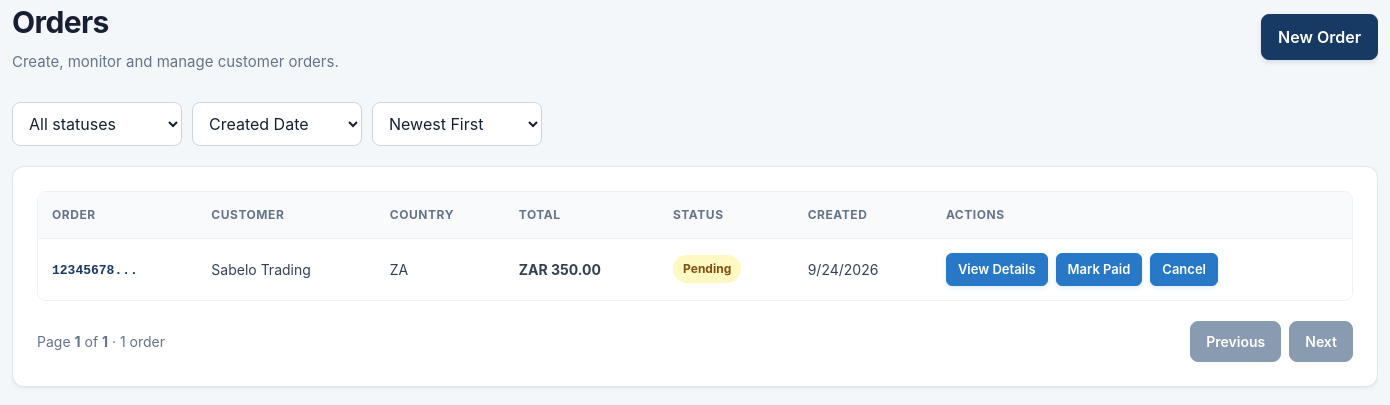
it: OrdersPage › filters orders by status
Expected: the text "12345678..." is shown, [52,263,138,278]
Select "Paid" in the dropdown named "filter orders by status" at point(97, 124), box [12,102,182,146]
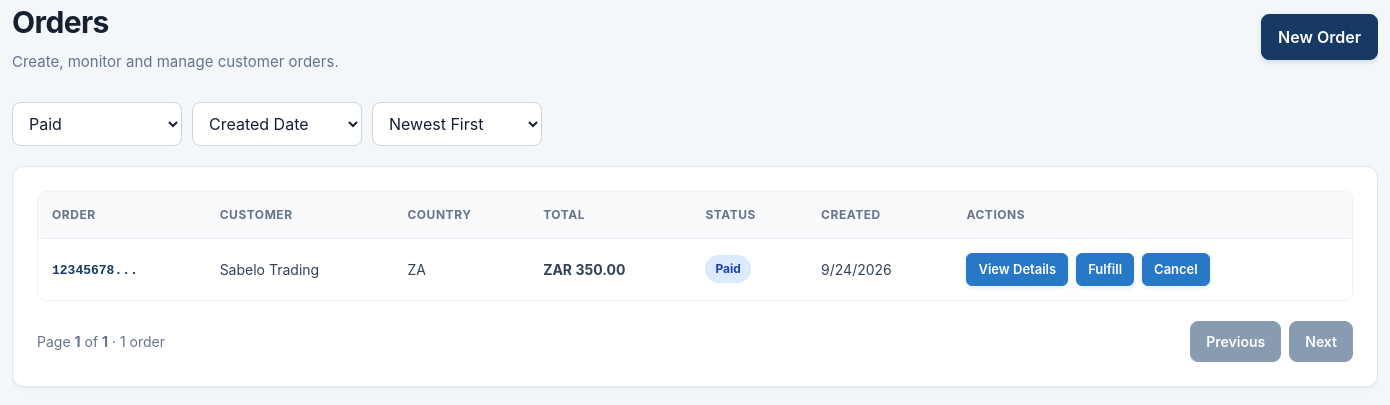
Now the text "Paid" is shown, box [705,255,751,283]
